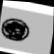correct: (0, 14, 33, 45)
